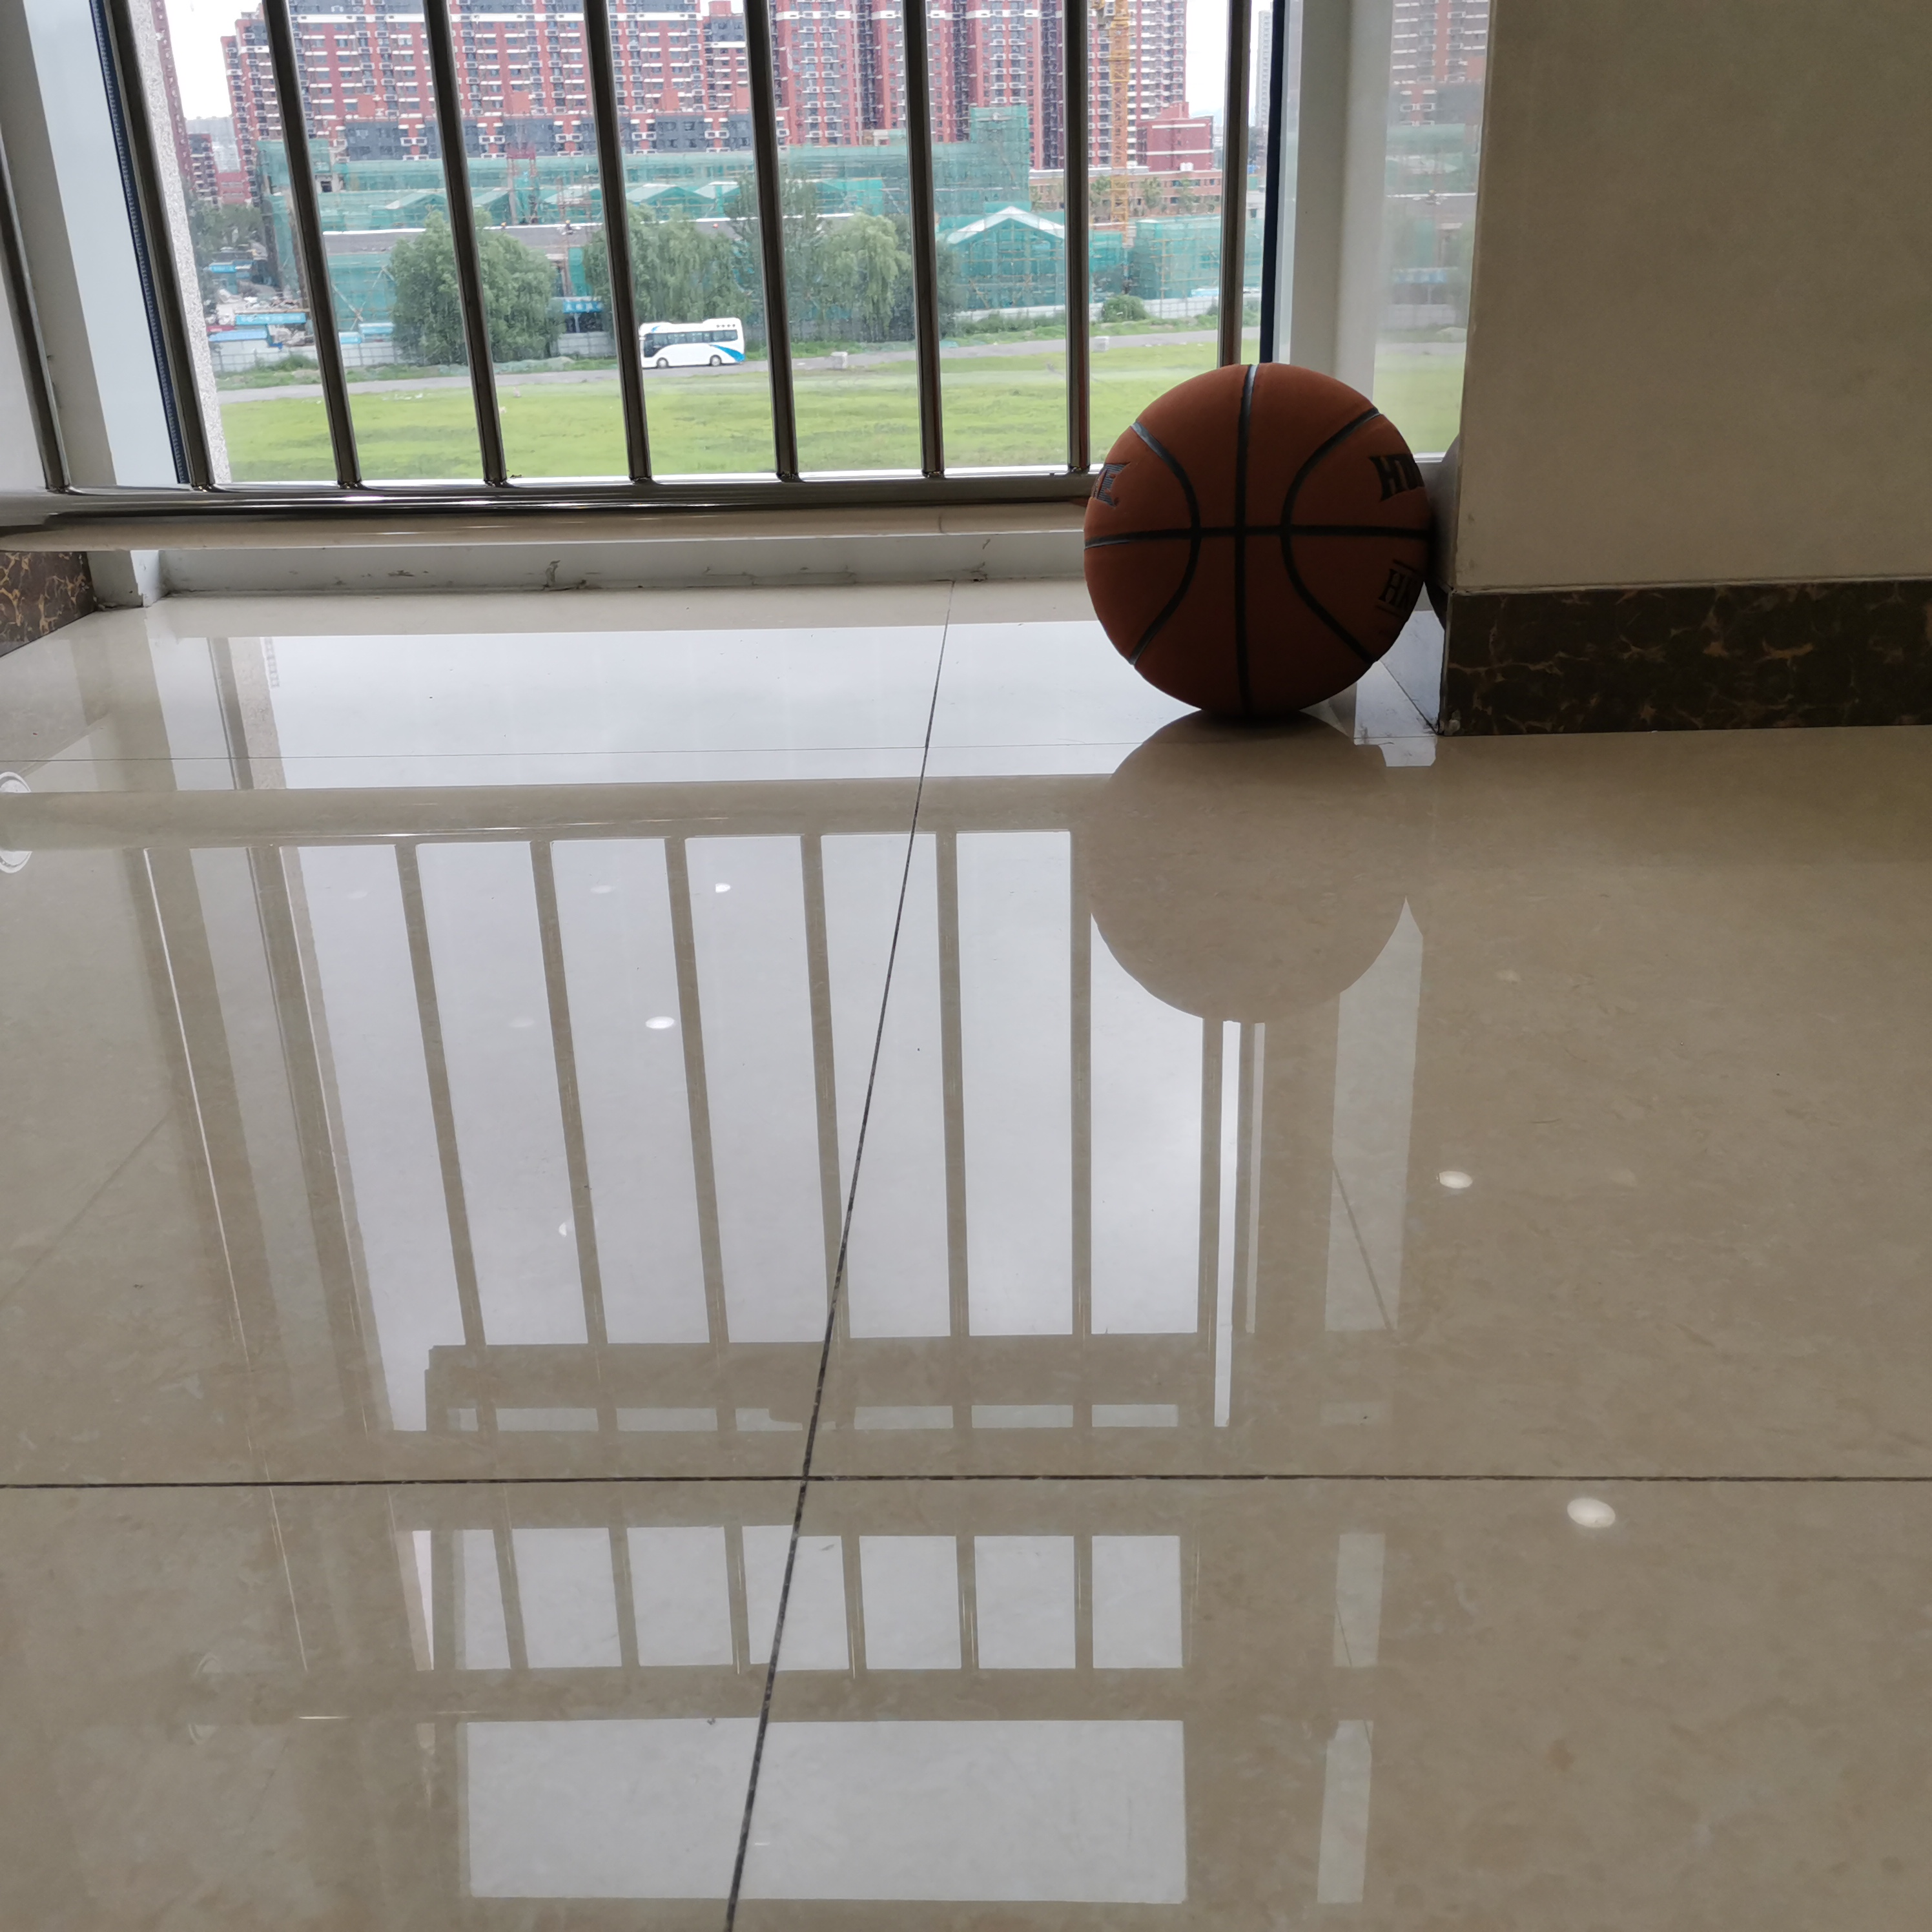basketball: (1086, 364, 1431, 720)
